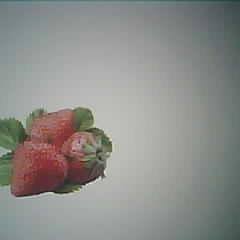straw-ripe: (12, 142, 66, 198), (64, 131, 106, 183)
